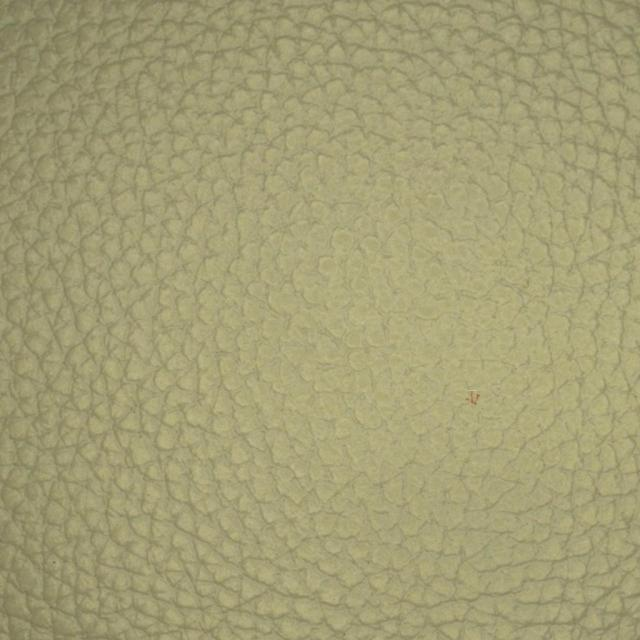pinhole: (370, 348, 564, 456)
